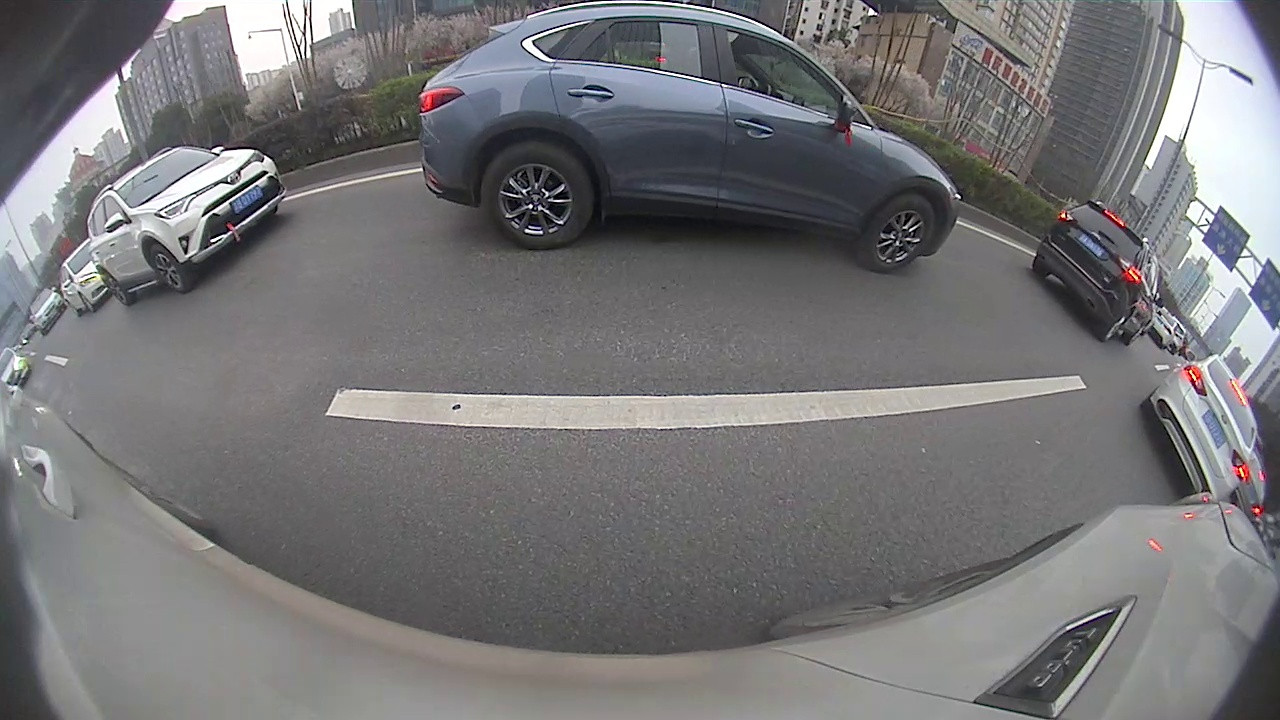car: (418, 1, 962, 275), (87, 143, 288, 307), (1029, 199, 1166, 346), (1138, 349, 1261, 503), (58, 239, 113, 317), (25, 287, 66, 335), (1, 346, 31, 393)
front: (862, 200, 938, 271), (150, 246, 188, 293)
rear: (481, 145, 593, 250), (102, 272, 127, 304)
